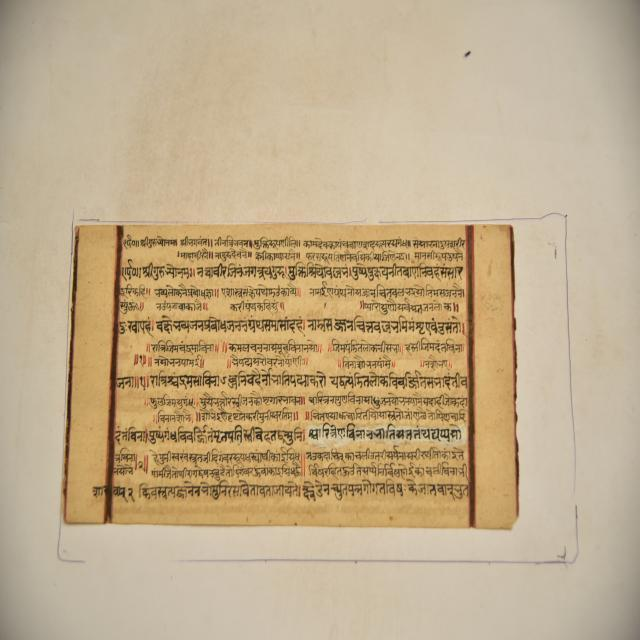text_paragraph: (62, 219, 516, 531)
